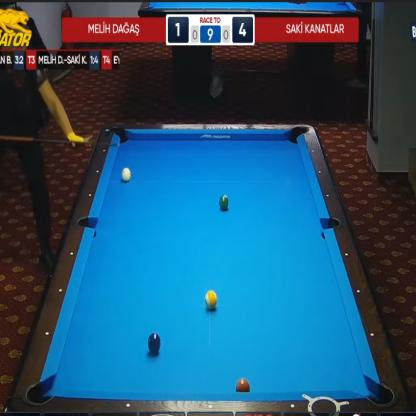Ball: (147, 333, 161, 354), (205, 290, 217, 310), (235, 379, 250, 392), (121, 167, 131, 182), (219, 195, 229, 210)
